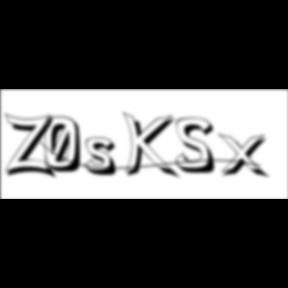0: (44, 115, 90, 174)
K: (122, 110, 182, 182)
S: (176, 117, 222, 176)
Z: (4, 112, 60, 181)
s: (86, 137, 124, 179)
x: (218, 132, 274, 181)
